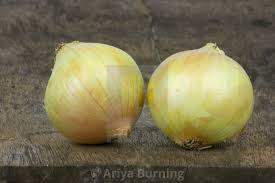onion: (146, 43, 254, 151), (43, 41, 146, 145)
